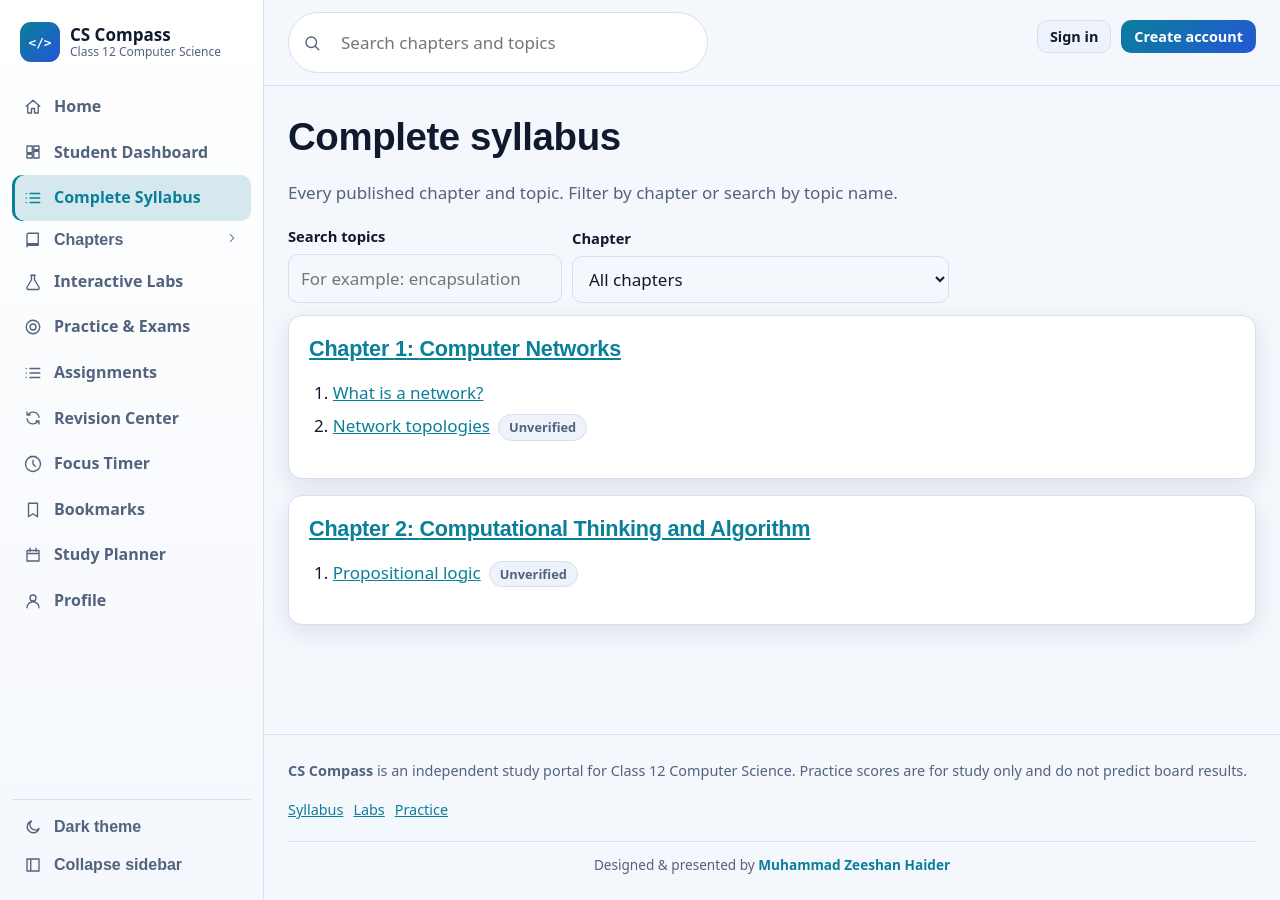
Test: public pages › syllabus shows chapters and topics, and filters
Expected: the link "Network topologies" is shown, [333,414,490,438]
Type "propositional" into the search field labelled "Search topics". click: (425, 279)
box: [288,254,562,303]
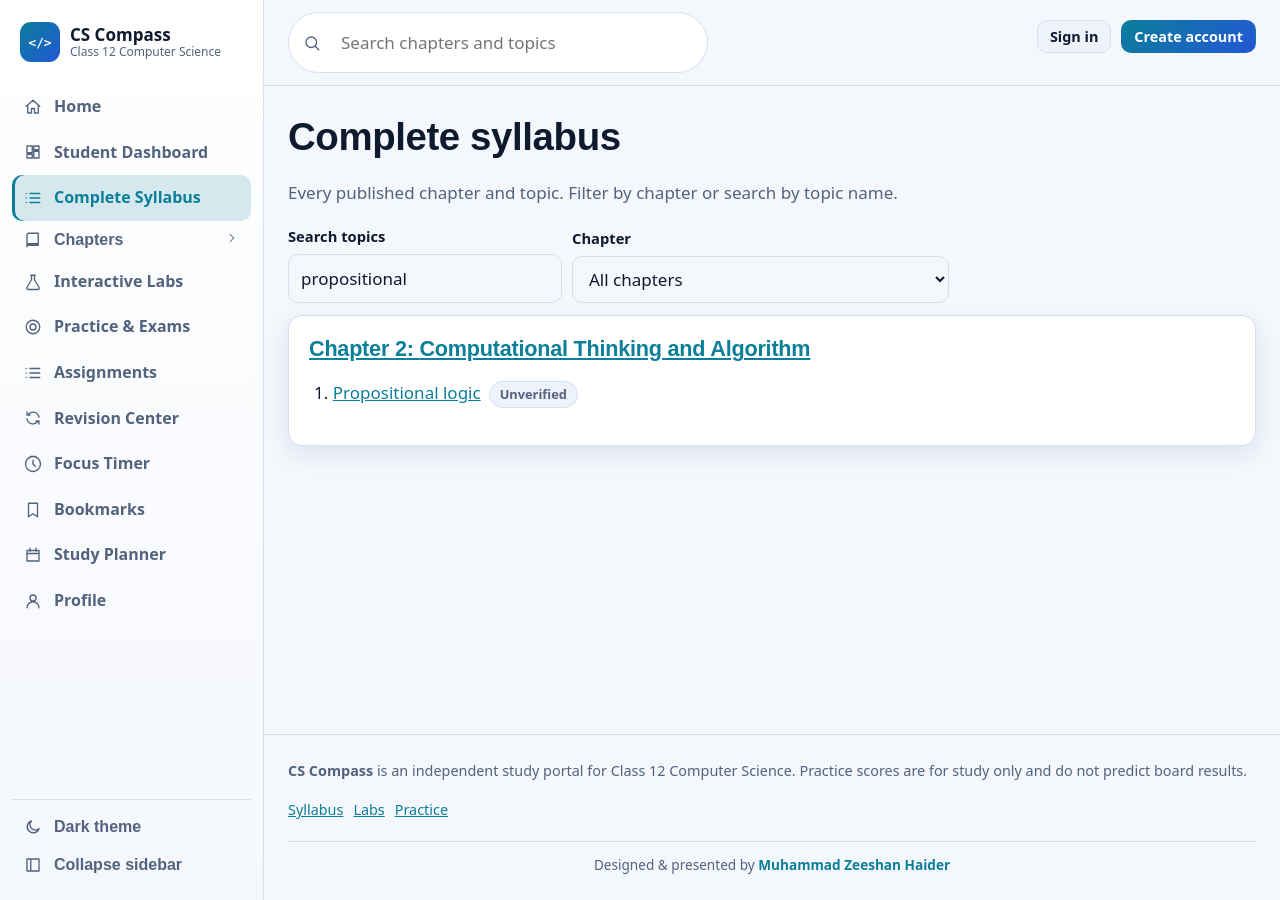
Expected: the link "Propositional logic" is shown, [333,381,481,404]
Result: the link "Network topologies" is gone
